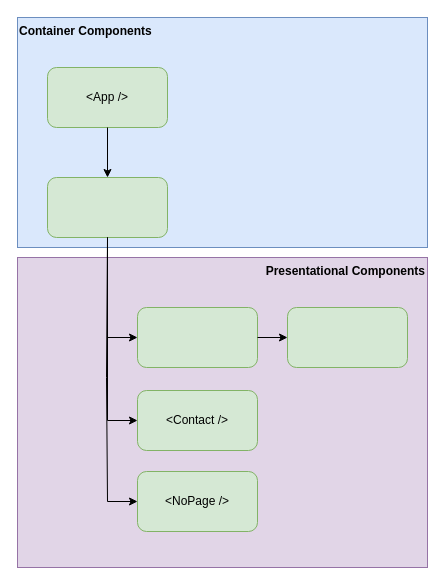
Some shapes in this 445 by 585 pixel diagram are drawn without their labels. Here are the shapes that lost their labels. From the top down, the centre of each, then its label:
the point at 107,207: <Layout />
the point at 197,337: <TaskList />
the point at 347,337: <TaskUpdate />
